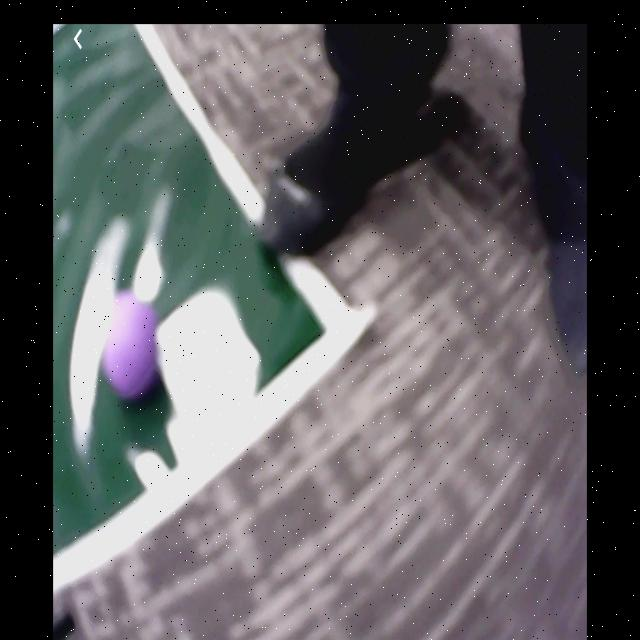ball: (102, 289, 163, 403)
